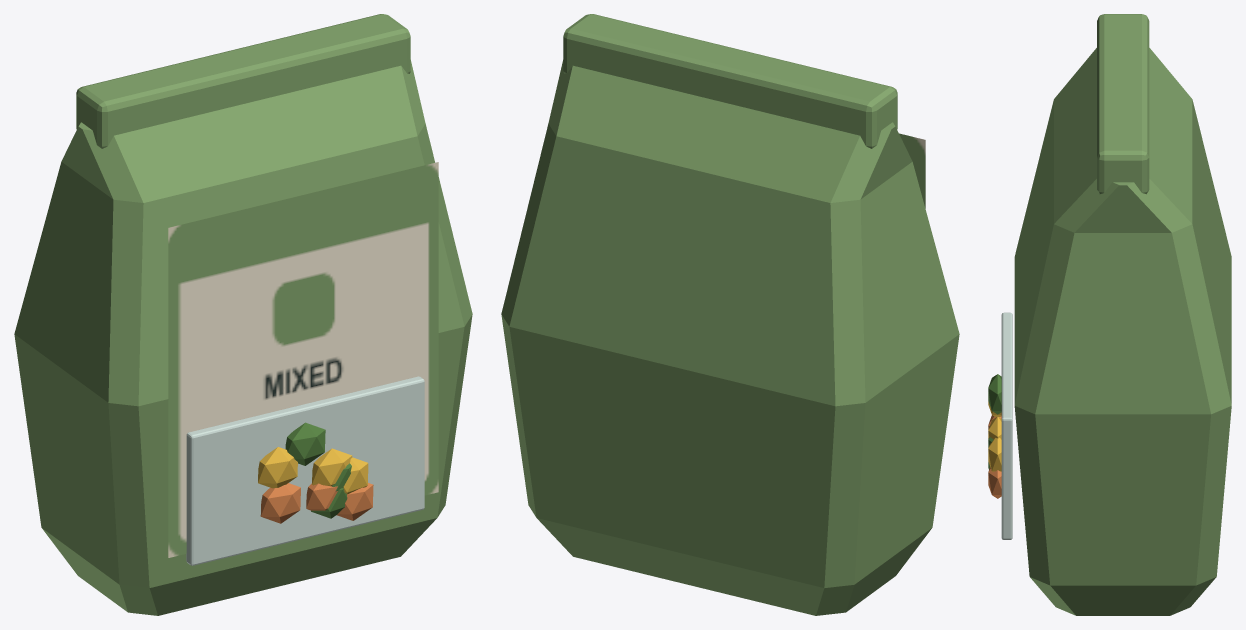
The model's file is mixed_vegetables.fbx.
3 renders of one model, left to right at view 1: azimuth 30°, elevation 25°; view 2: azimuth 150°, elevation 25°; view 3: azimuth 270°, elevation 25°, orthographic. The views are drawn at different scales.
Parts seen in each view (by area): view 1: mixed_vegetables; view 2: mixed_vegetables; view 3: mixed_vegetables.
Boxes of the visible parts, x1,y1,x2,y2 form: mixed_vegetables: (14, 14, 472, 615); mixed_vegetables: (501, 14, 959, 615); mixed_vegetables: (988, 14, 1231, 615).
Size of the model in its own units: 21 by 27.67 by 13.01.
